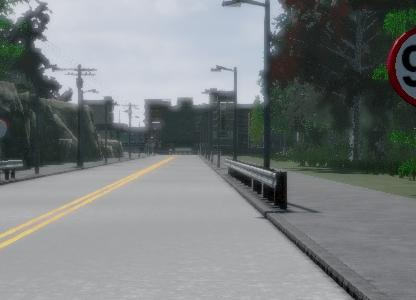Speed_90: (385, 17, 416, 114)
